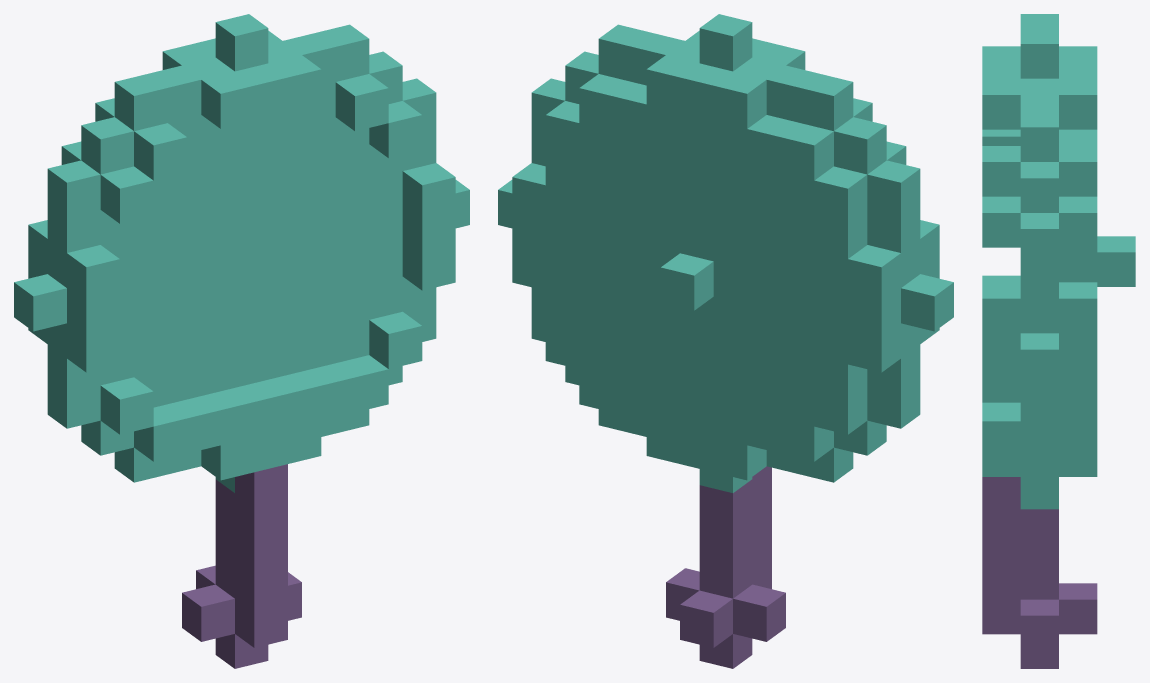
File: alien-biosphere-shield-leaf-85a58a7e__22711.glb
3 renders of one model, left to right at view 1: azimuth 30°, elevation 25°; view 2: azimuth 150°, elevation 25°; view 3: azimuth 270°, elevation 25°, orthographic.
Visible parts, largest first — view 1: shield-leaf; view 2: shield-leaf; view 3: shield-leaf.
Boxes of the visible parts, x1=… form: shield-leaf: x1=14, y1=14, x2=469, y2=668; shield-leaf: x1=498, y1=14, x2=953, y2=668; shield-leaf: x1=982, y1=14, x2=1135, y2=668.
Bounding box in the file's own units: 1.56 × 2.16 × 0.4799.
